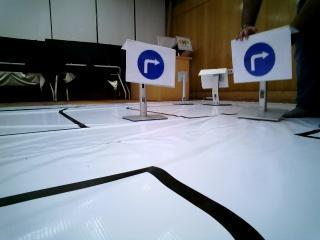right: (231, 37, 288, 78), (125, 42, 174, 88)
